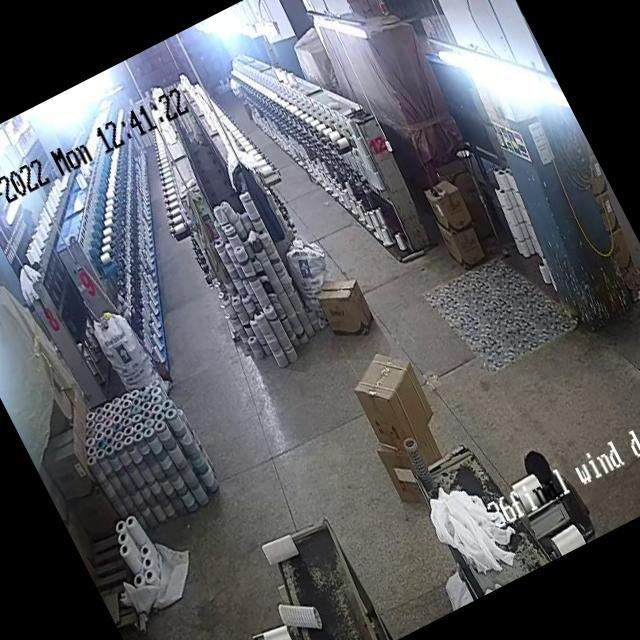person: (523, 438, 605, 548)
